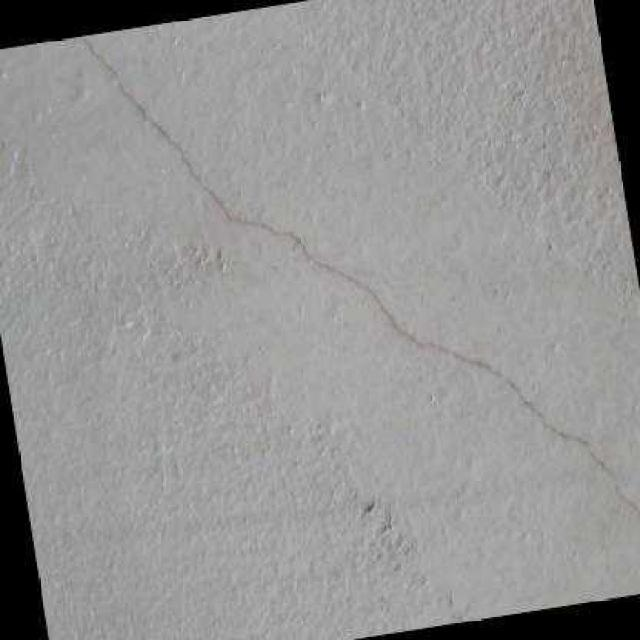D00: (83, 35, 640, 523)
